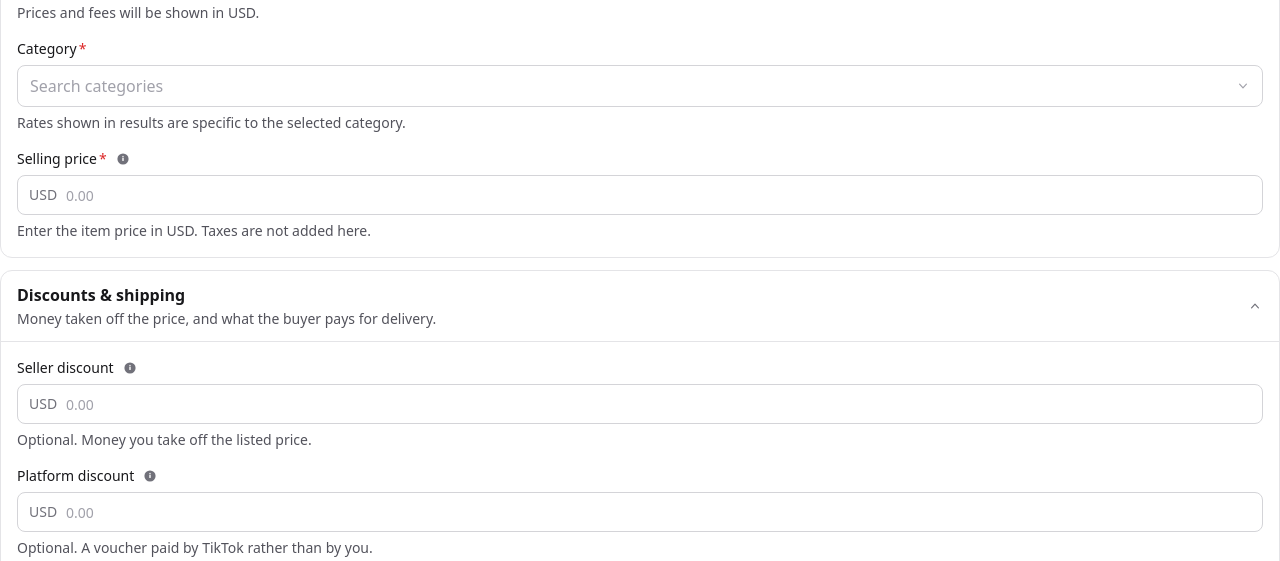
Test: CalculatorForm results cycle › shows the results panel after a successful calculation
Focus the dropdown labelled "Category*" at coordinates (640, 86), box [17,65,1263,107]
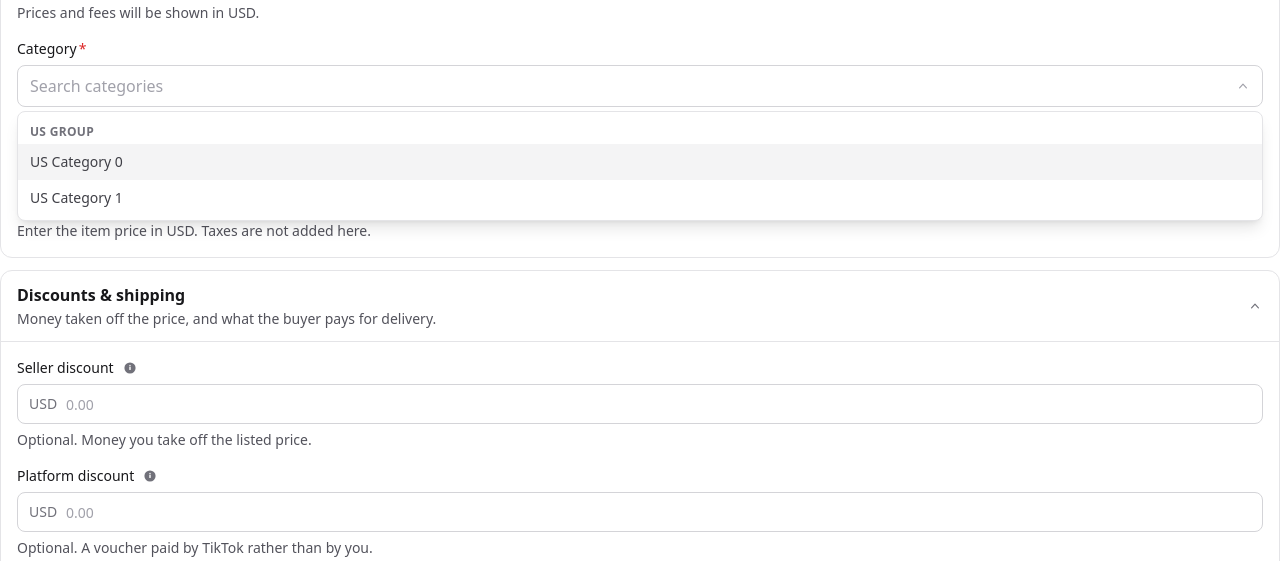
Press the mouse on the option "US Category 0" at coordinates (76, 162), box [18,144,1262,180]
(page scrolled)
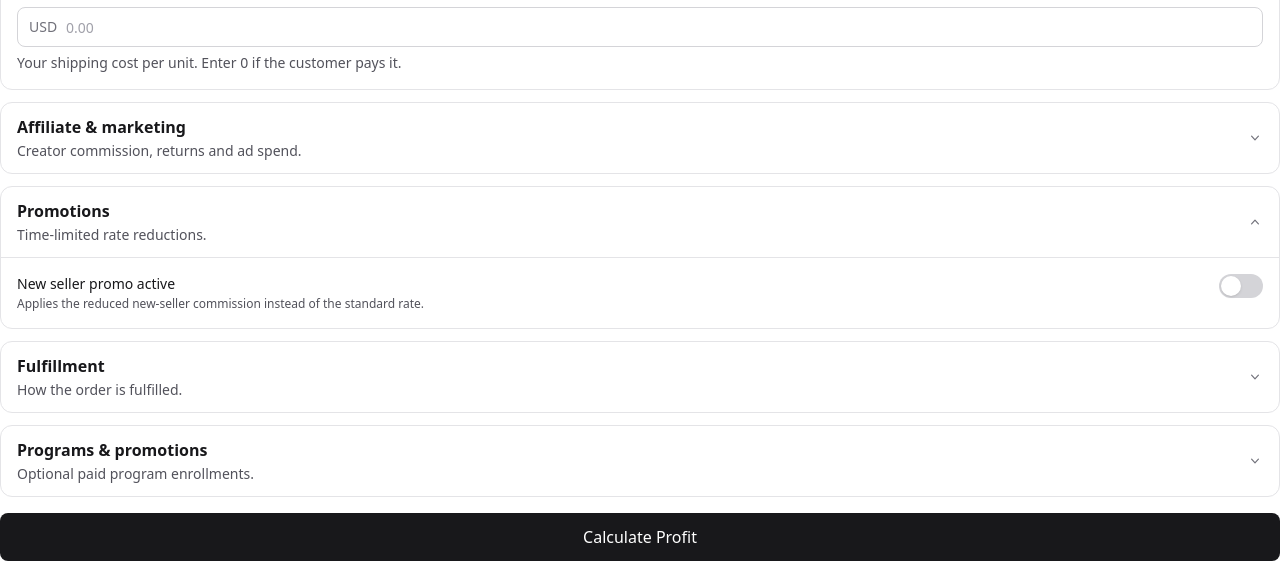
Click the button "Calculate Profit" at coordinates (640, 537), box [0,513,1279,560]
(page scrolled)
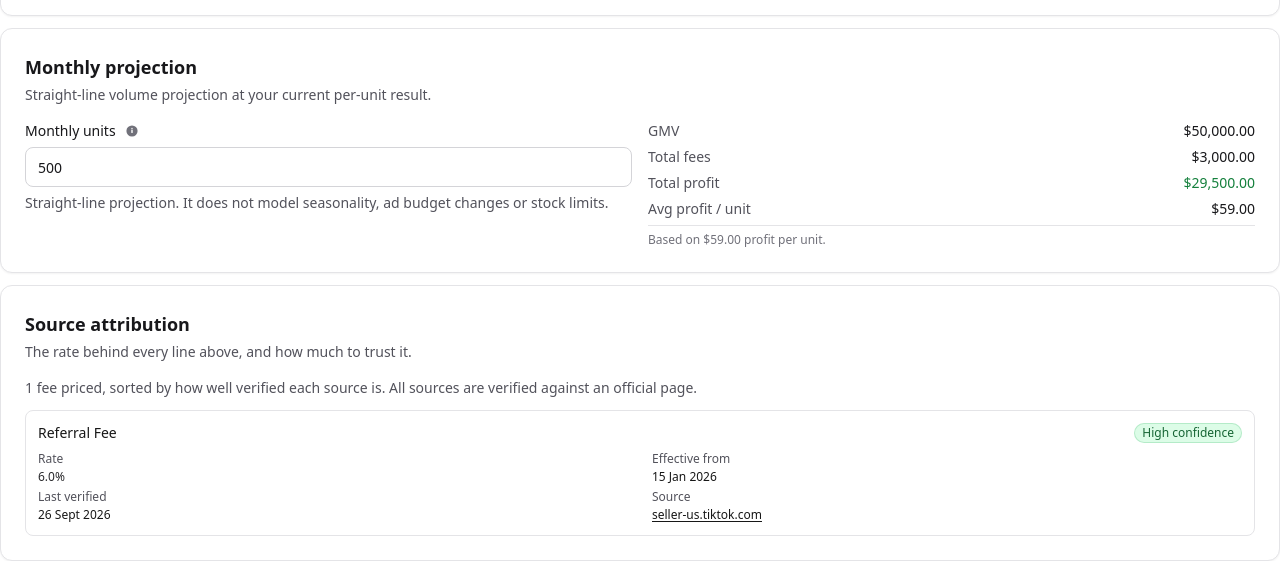
Check: the heading "Source attribution" is shown, box [25,312,190,336]
